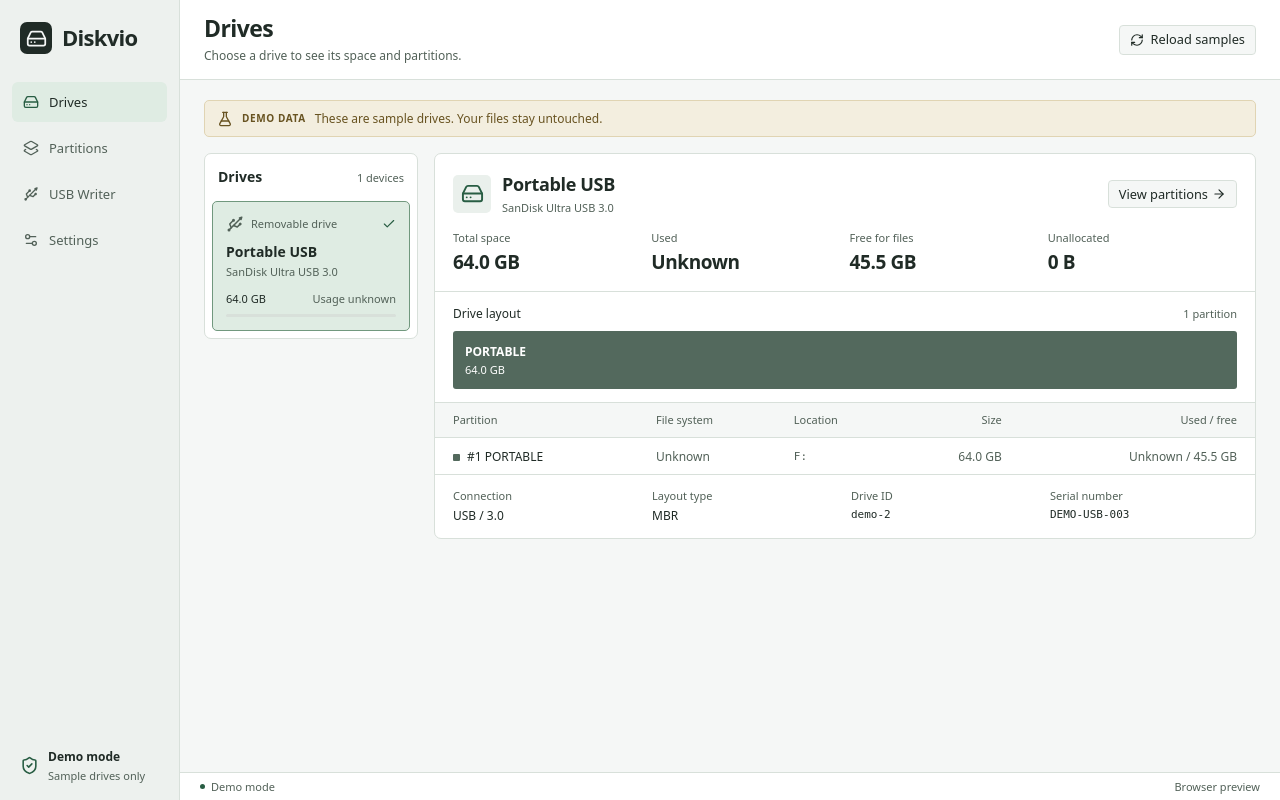
Test: Diskvio workspace › shows missing filesystem and usage honestly and never preselects USB targets
Expected: the element named "Selected device" is shown, [434,153,1256,538]
Expected: the text "Usage unknown" is shown, [312,291,396,307]
Click the button "USB Writer".
click(90, 194)  # box [12,174,167,214]
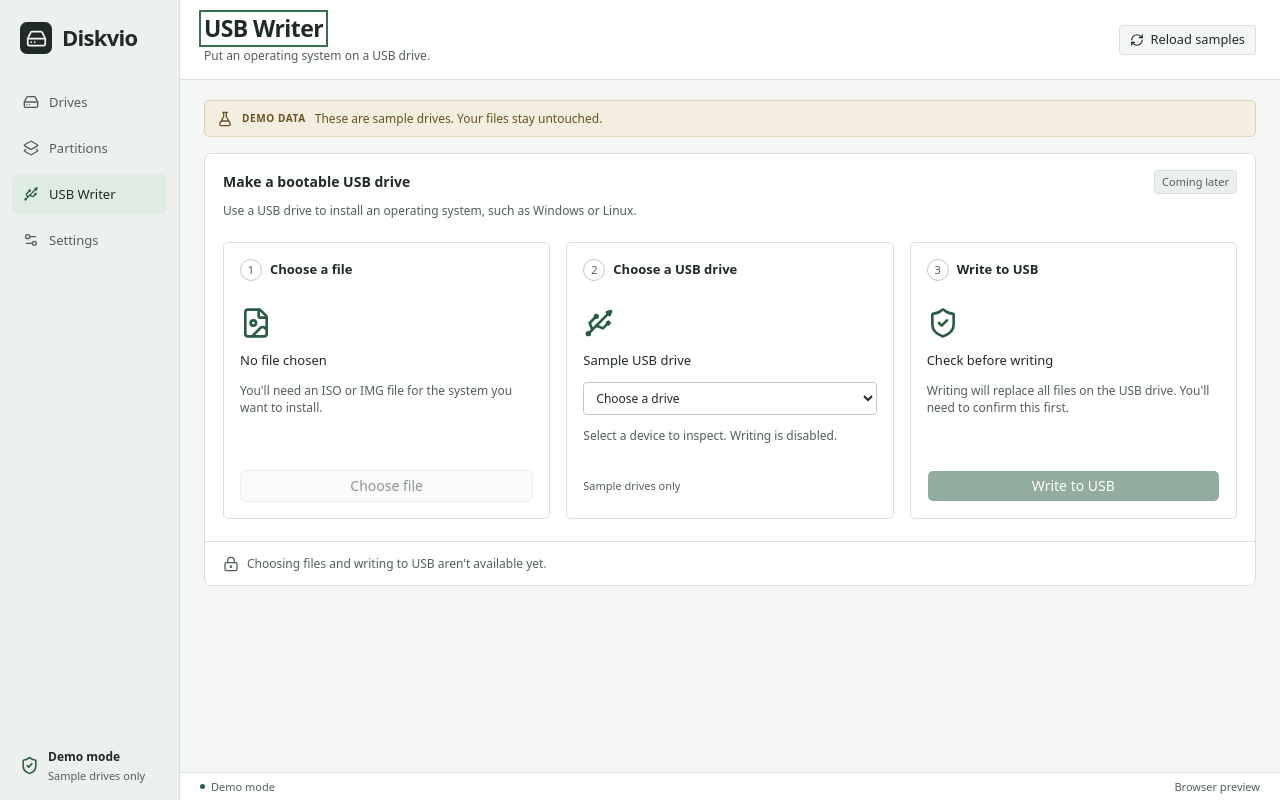
Expected: the dropdown labelled "Sample USB drive" shows "Choose a drive", [583,382,877,415]
Expected: the button "Write to USB" is disabled, [927,470,1220,502]
